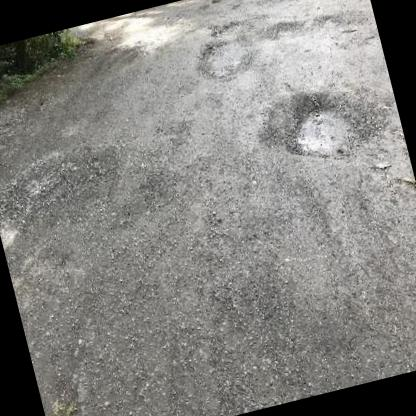pothole: (0, 133, 136, 244), (256, 76, 383, 178), (187, 27, 264, 84), (310, 2, 376, 59), (260, 14, 306, 46)
